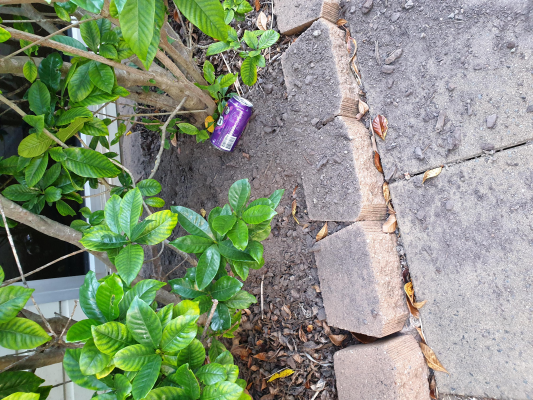Plastic Bottle: (211, 96, 253, 153)
